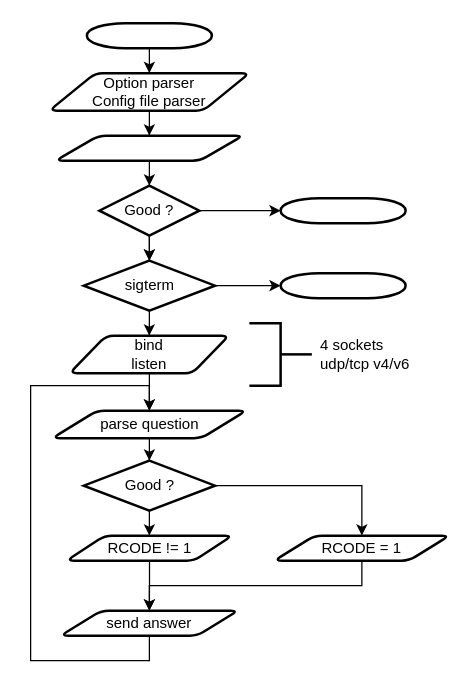
The diagram is 473 pixels wide and 693 high, and some of its shapes have lost their labels. Here are the shapes that lost their labels. From the top down, the centre of each, then its label:
At point (148, 35): "start".
At point (149, 147): "zone file parser".
At point (342, 210): "return 1".
At point (342, 285): "return 0".
